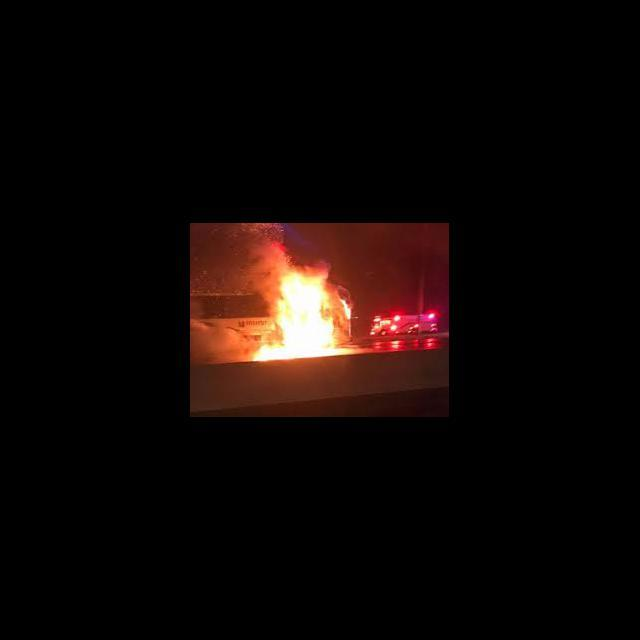Fire: (252, 262, 358, 362)
